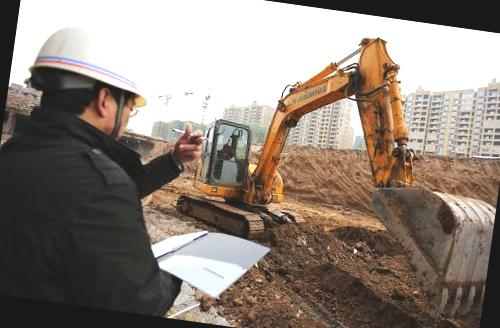helmet: (28, 21, 172, 98)
no_vest: (0, 120, 175, 315)
person: (0, 17, 184, 315)
